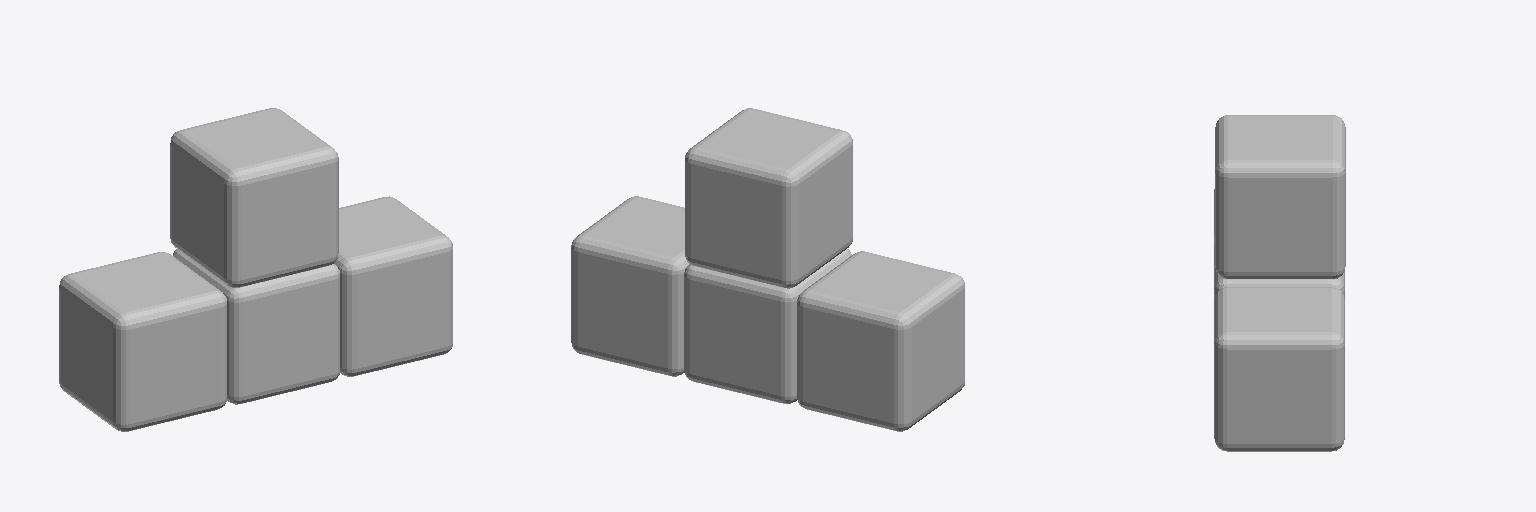
Rendered from tetris_t_shape.obj.
3 renders of one model, left to right at view 1: azimuth 30°, elevation 25°; view 2: azimuth 150°, elevation 25°; view 3: azimuth 270°, elevation 25°, orthographic.
Visible parts, largest first — view 1: Roundcube.034; view 2: Roundcube.034; view 3: Roundcube.034.
Part boxes in pixels (x1,y1,x2,y2): Roundcube.034: (59, 108, 452, 431); Roundcube.034: (571, 108, 964, 431); Roundcube.034: (1214, 115, 1345, 451).
Bounding box in the file's own units: 4.82 × 3.19 × 1.62.